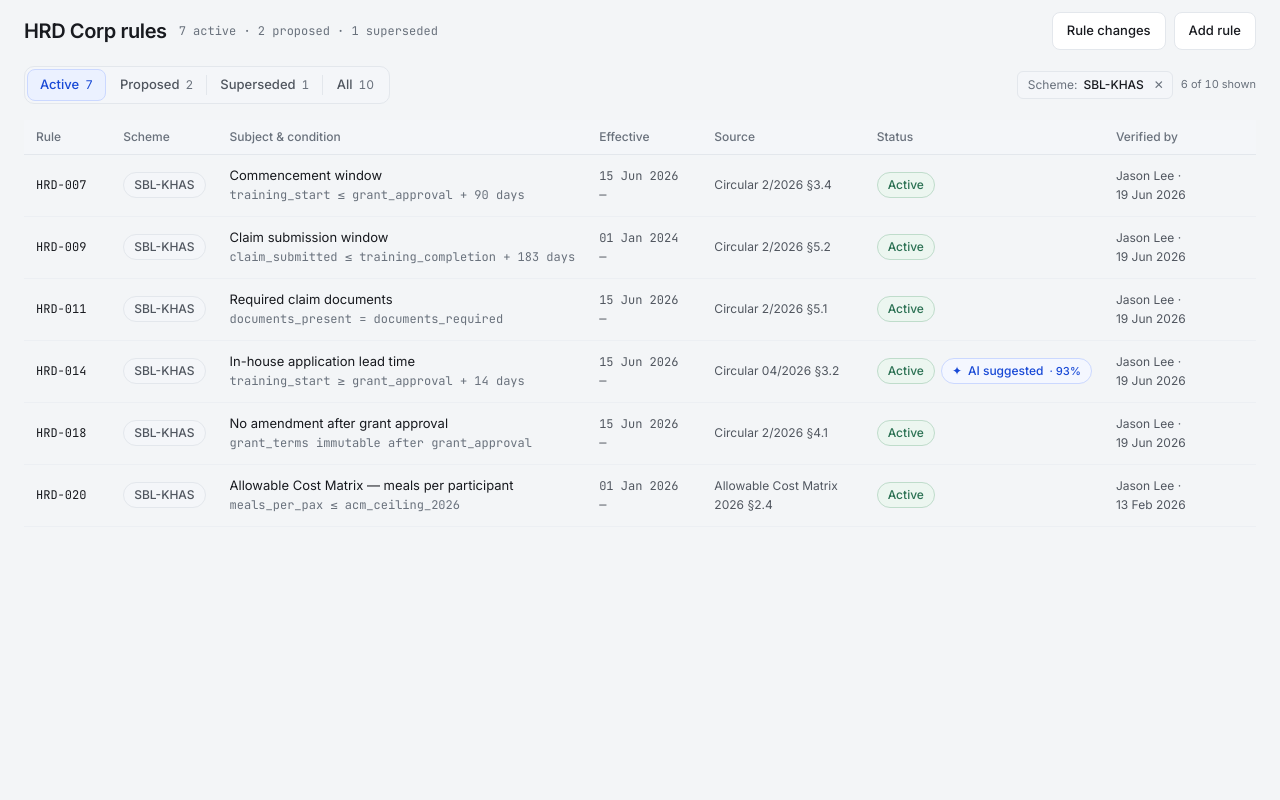
Test: M12-S07 · rules registry › shows an active rule whose replacement is dated but not yet in force
Check: the heading "HRD Corp rules" is shown, box left=24, top=16, right=167, bottom=46
Click the tab "All 10": {"x": 355, "y": 84} left=323, top=68, right=387, bottom=100
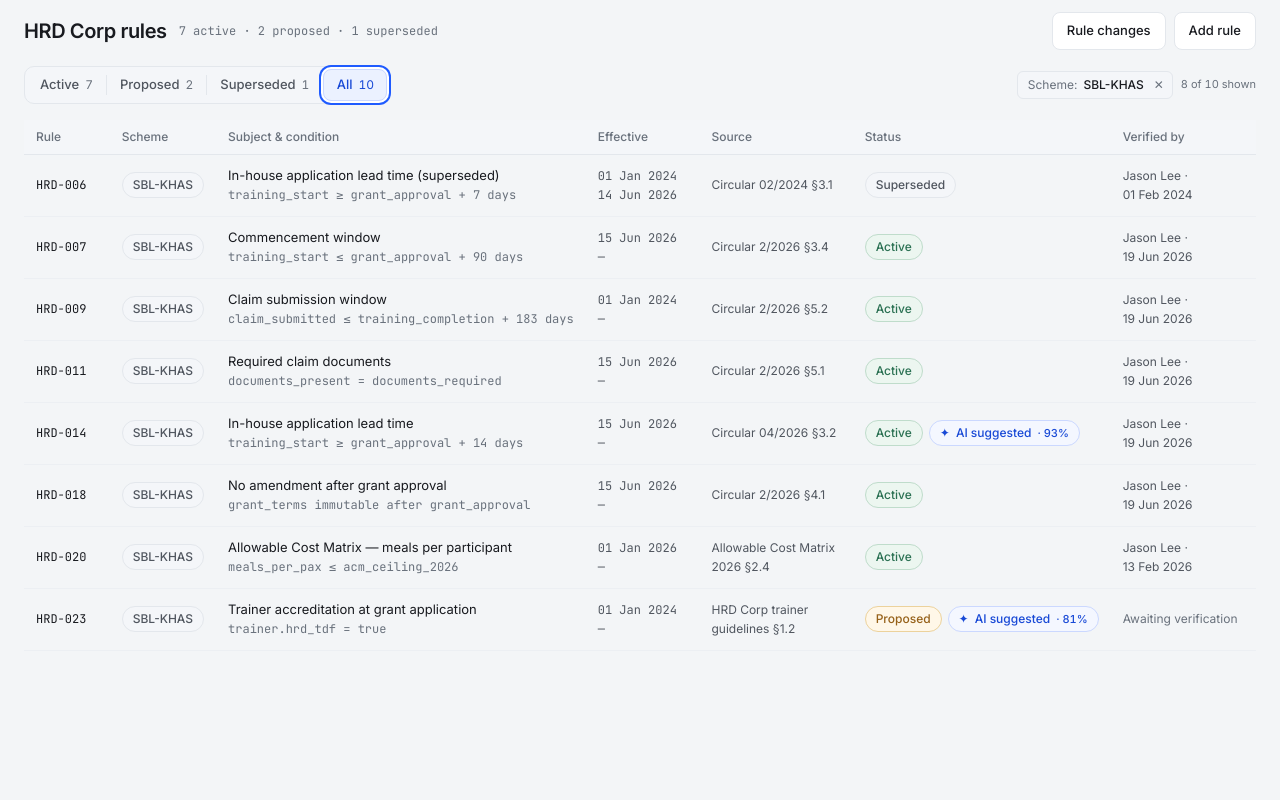
Click the button named "Remove filter Scheme": {"x": 1159, "y": 84} left=1150, top=76, right=1168, bottom=94
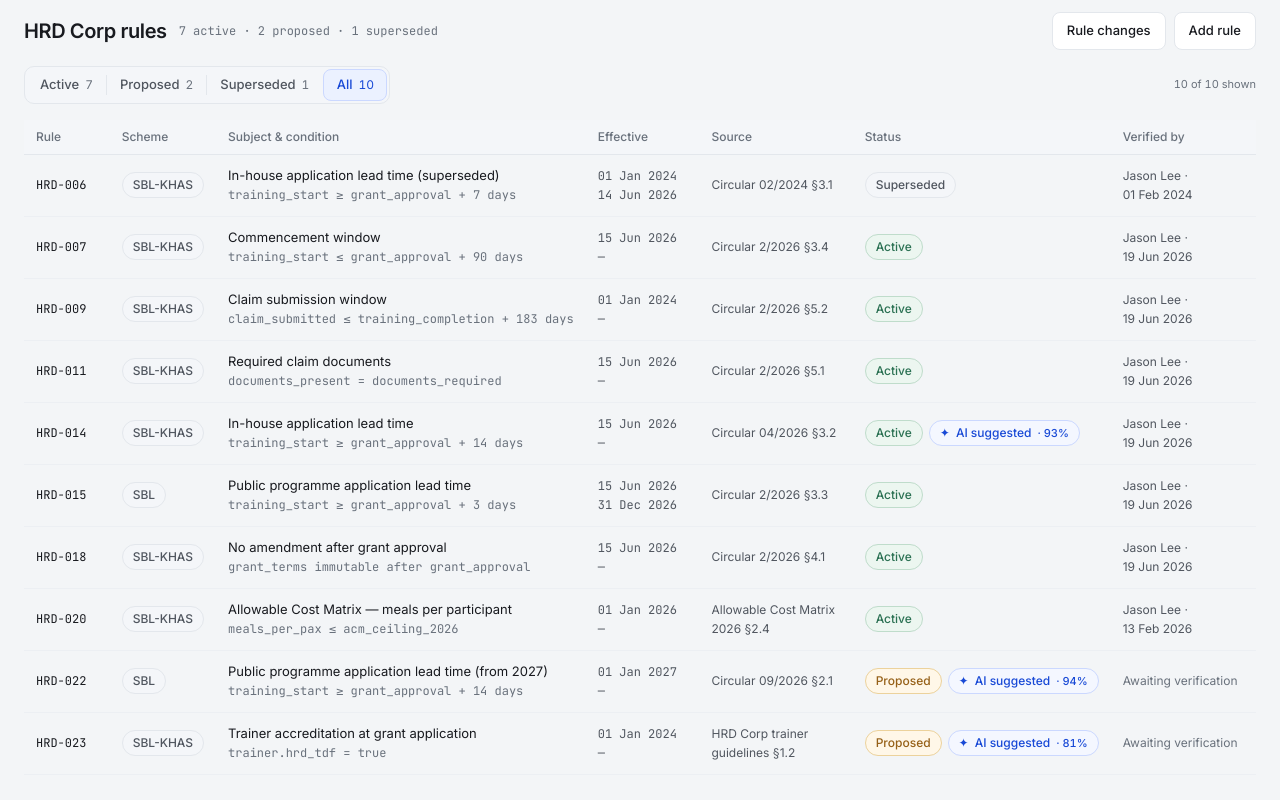
Click the text "HRD-015": {"x": 61, "y": 495} left=36, top=487, right=86, bottom=503
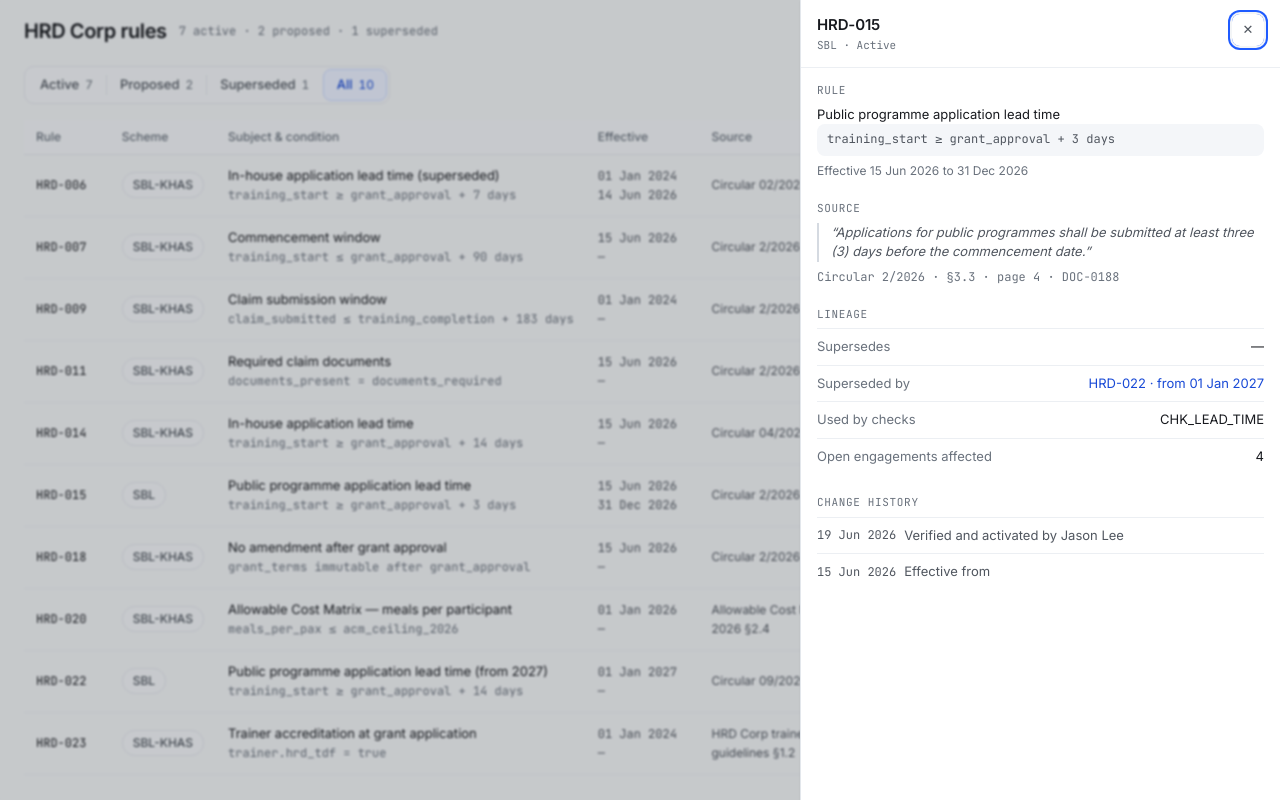
Check: the button "HRD-022 · from 01 Jan 2027" is shown, box left=1088, top=374, right=1264, bottom=393
Check: the text "01 Jan 2027" is shown, box left=1189, top=374, right=1264, bottom=390
